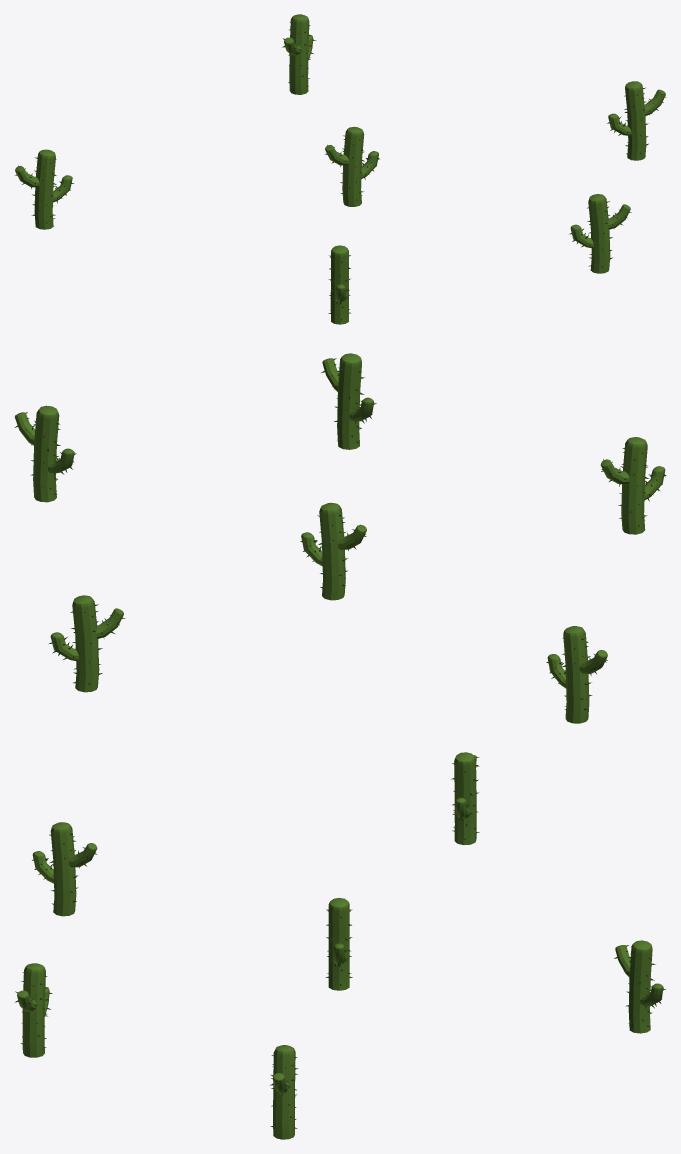
File: TightCactusGroup.fbx
The picture shows the model from 3 angles, top to bottom: view 1: azimuth 30°, elevation 25°; view 2: azimuth 150°, elevation 25°; view 3: azimuth 270°, elevation 25°; orthographic projection. The views are drawn at different scales.
Visible parts, largest first — view 1: TightCactusGroup; view 2: TightCactusGroup; view 3: TightCactusGroup.
Part boxes in pixels (x1,y1,x2,y2): TightCactusGroup: (14,14,666,324); TightCactusGroup: (14,353,666,723); TightCactusGroup: (14,752,665,1139).
Bounding box in the file's own units: 104 × 12.95 × 87.8.
Materials: 1 (1 with a texture image).
